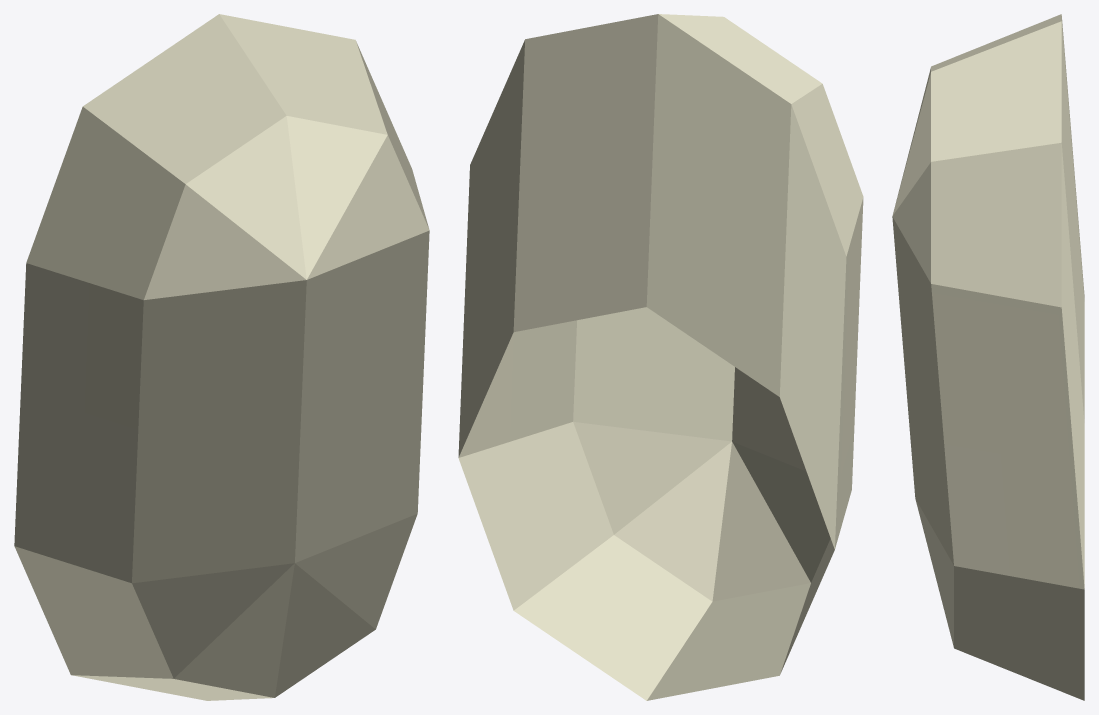
The picture shows the model from 3 angles, left to right: view 1: azimuth 30°, elevation 25°; view 2: azimuth 150°, elevation 25°; view 3: azimuth 270°, elevation 25°; orthographic projection. The views are drawn at different scales.
Parts seen in each view (by area): view 1: Object36; view 2: Object36; view 3: Object36.
Part boxes in pixels (x1,y1,x2,y2): Object36: (14,14,429,700); Object36: (458,14,863,700); Object36: (892,14,1084,700).
Bounding box in the file's own units: 54.96 × 94.67 × 24.53.
